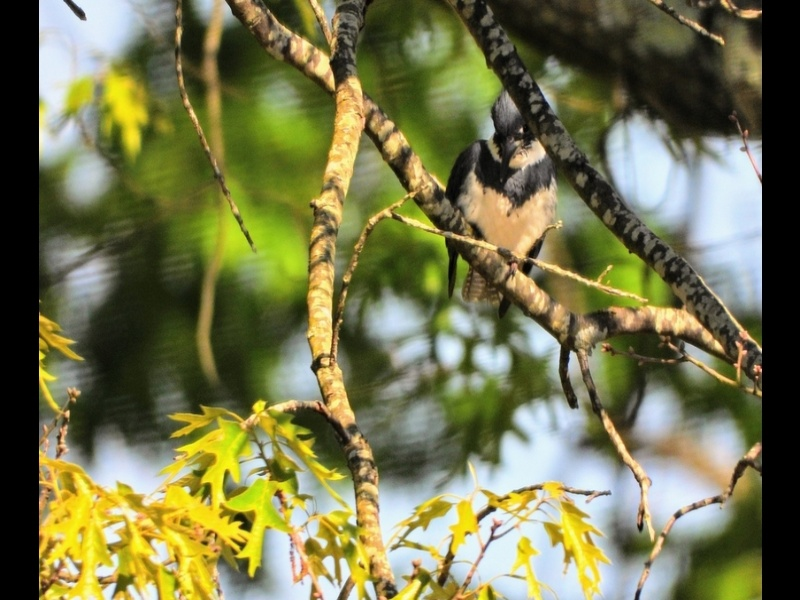kingfisher: (442, 83, 557, 309)
